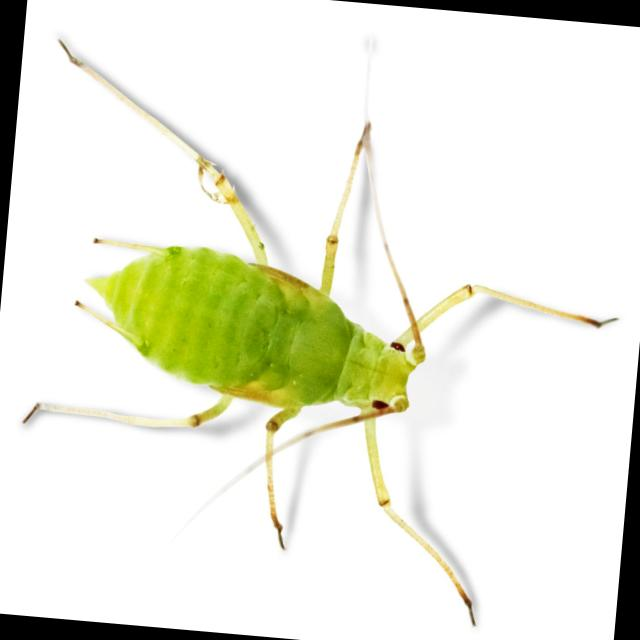Aphid: (0, 34, 604, 613)
